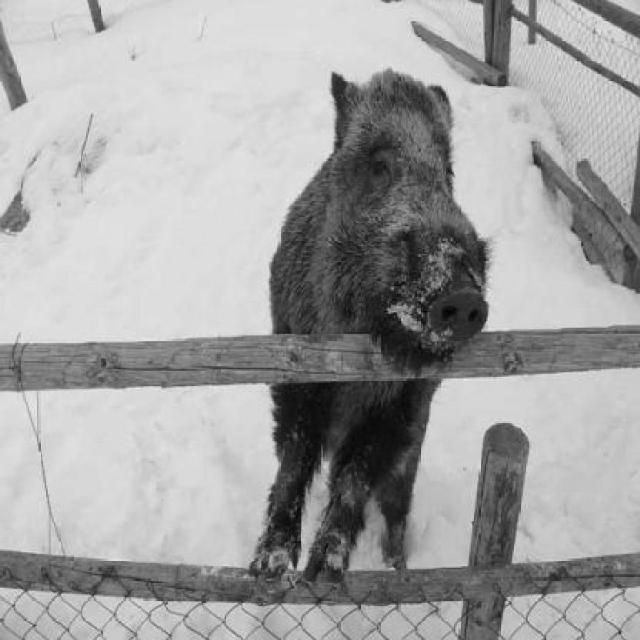Boar: (238, 17, 554, 555)
